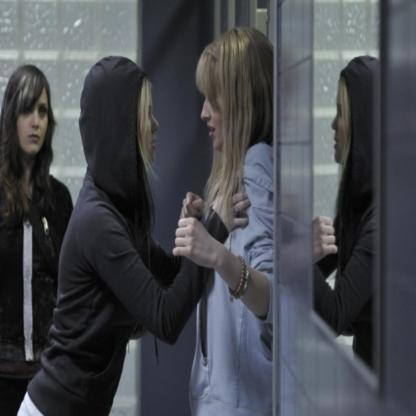face: (128, 80, 161, 162), (200, 71, 232, 148), (16, 84, 49, 153), (332, 89, 356, 163)
